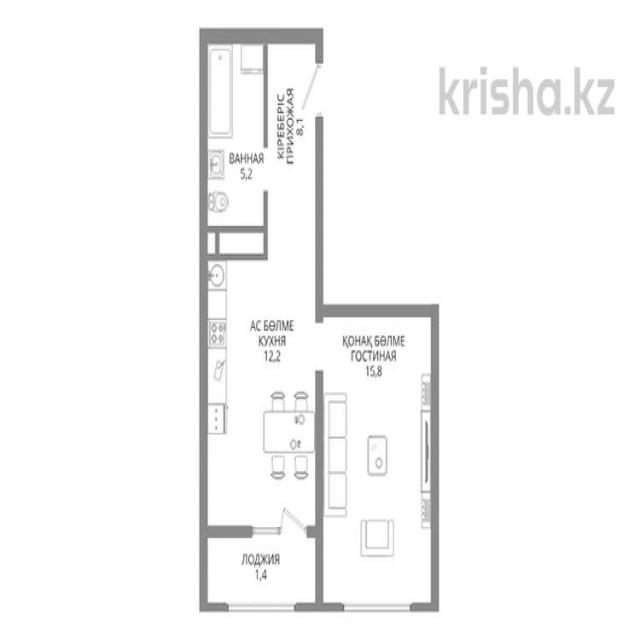balcony: (205, 534, 316, 604)
bathroom: (207, 41, 264, 244)
hallway: (269, 38, 320, 252)
kitchen: (206, 259, 314, 526)
living_room: (321, 312, 434, 605)
